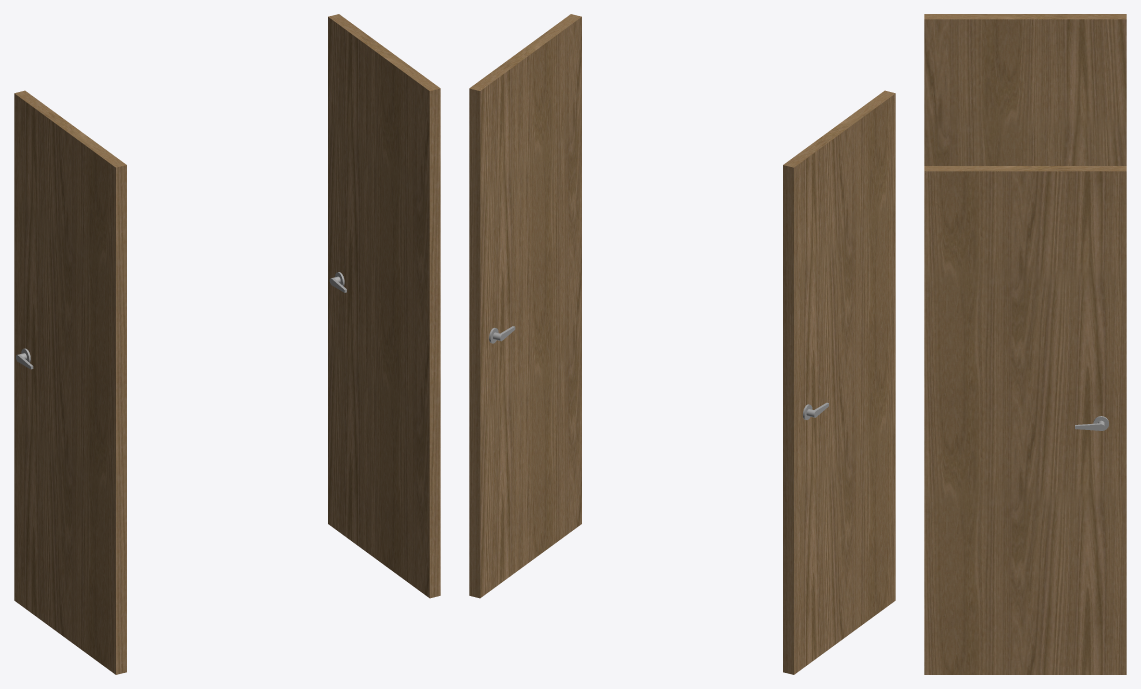
Rendered from MSH_Puertas_Coworking.FBX.
3 views of the same model, side by side, from view 1: azimuth 30°, elevation 25°; view 2: azimuth 150°, elevation 25°; view 3: azimuth 270°, elevation 25° (orthographic).
Parts seen in each view (by area): view 1: MSH_Puertas_Coworking; view 2: MSH_Puertas_Coworking; view 3: MSH_Puertas_Coworking.
Part boxes in pixels (x1,y1,x2,y2): MSH_Puertas_Coworking: (14,14,440,674); MSH_Puertas_Coworking: (469,14,895,674); MSH_Puertas_Coworking: (924,14,1126,674).
Size of the model in its own units: 156 by 220 by 80.
